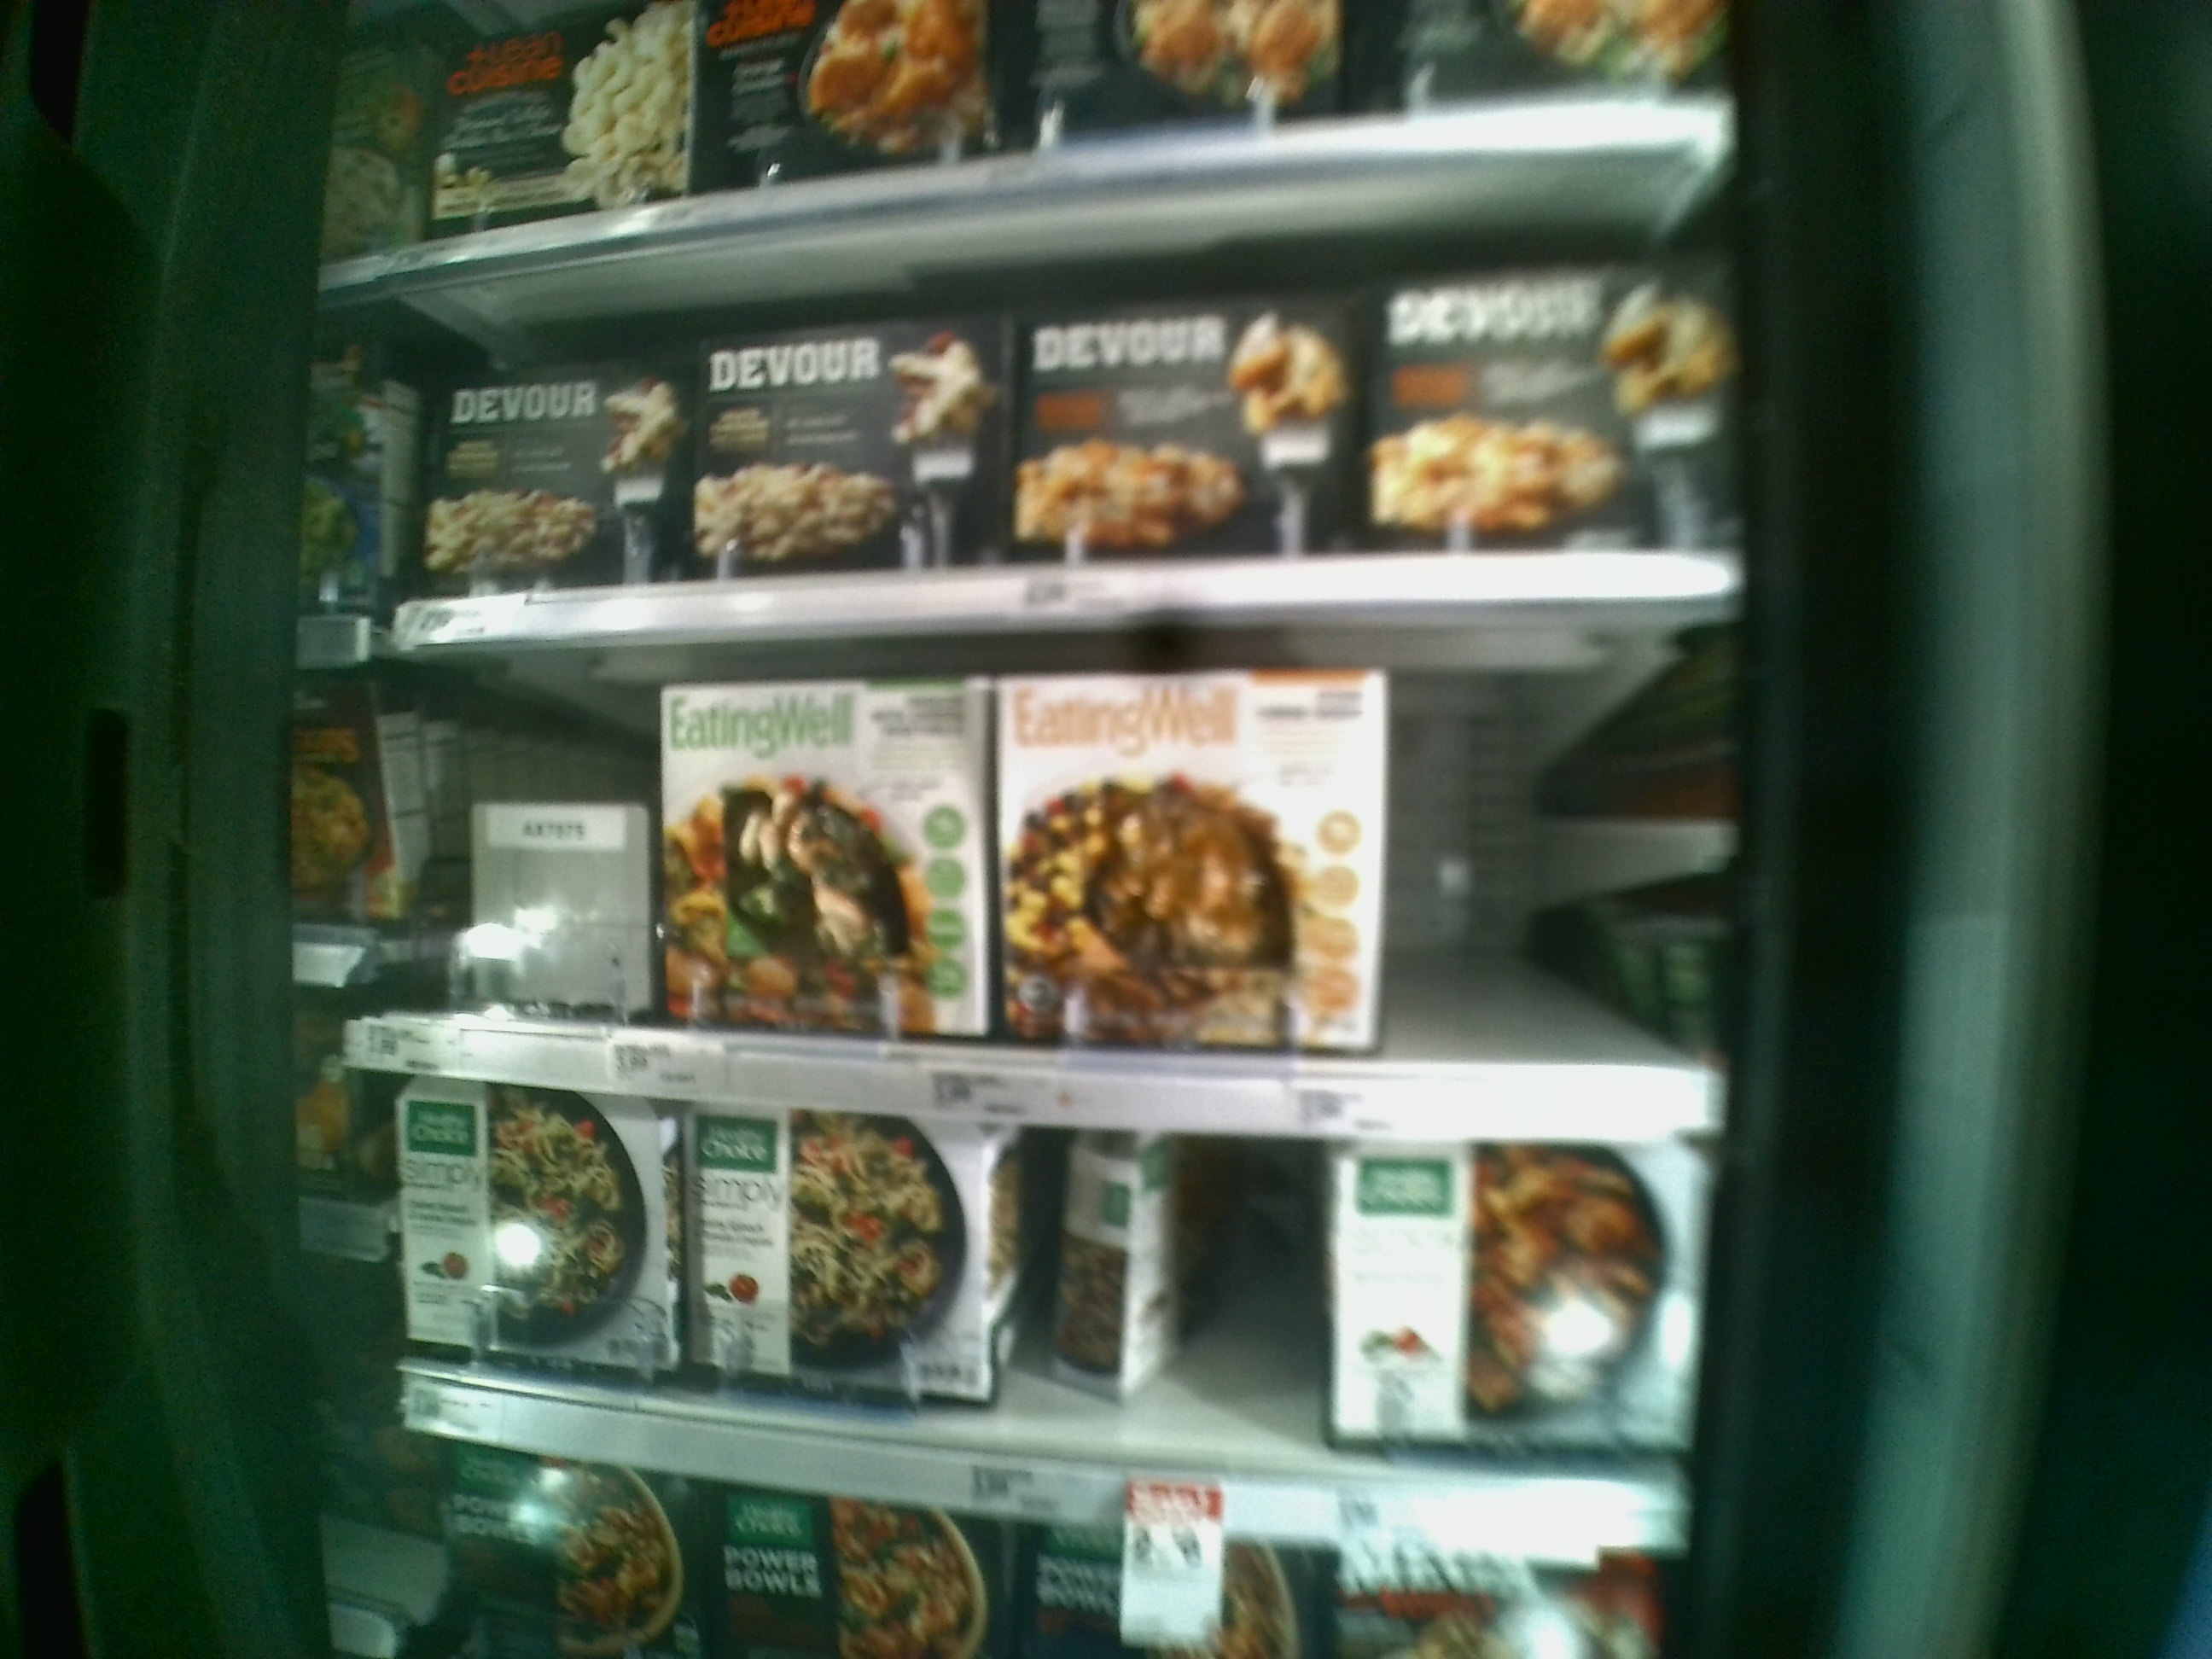shelf: (369, 601, 1740, 1138), (352, 181, 1742, 634)
